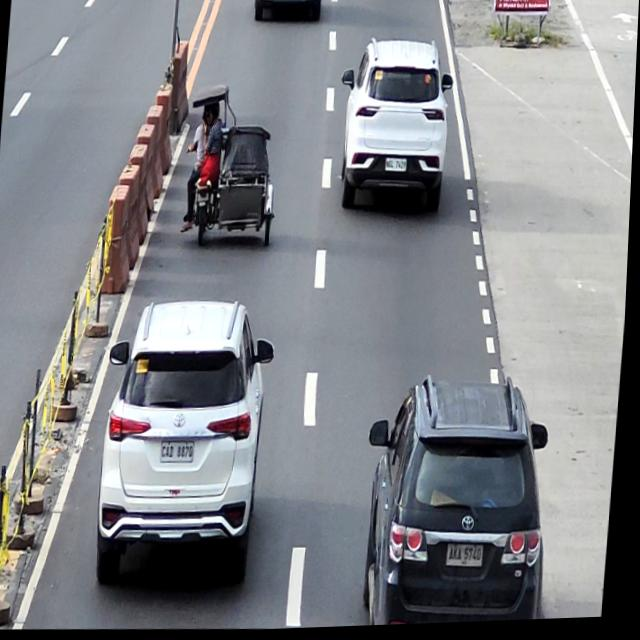Car: (96, 295, 281, 591), (359, 368, 564, 629), (333, 35, 457, 218), (252, 0, 322, 25)
License-Plate: (451, 544, 489, 571), (163, 441, 199, 467), (386, 160, 408, 176), (198, 192, 211, 204), (281, 0, 297, 1)
Tricycle: (183, 82, 285, 251)
